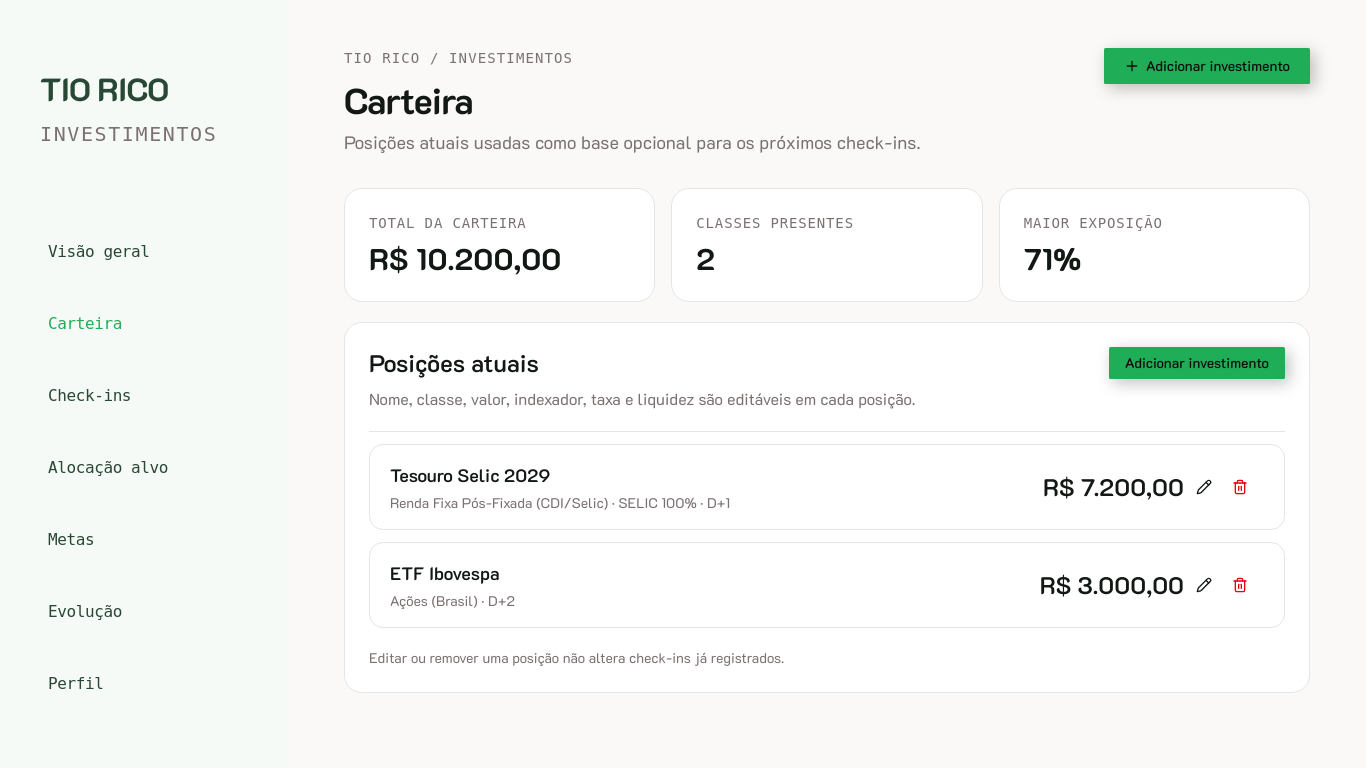
Test: Wallet (carteira) › não envia nada e avisa quando o valor é inválido
This screenshot has width=1366, height=768.
expect the list named "Investimentos atuais" is shown: met, box [369,444,1285,628]
Click the button "Adicionar investimento" in the row of "TIO RICO / INVESTIMENTOS". click: [1207, 66]
box: [1104,48,1310,84]
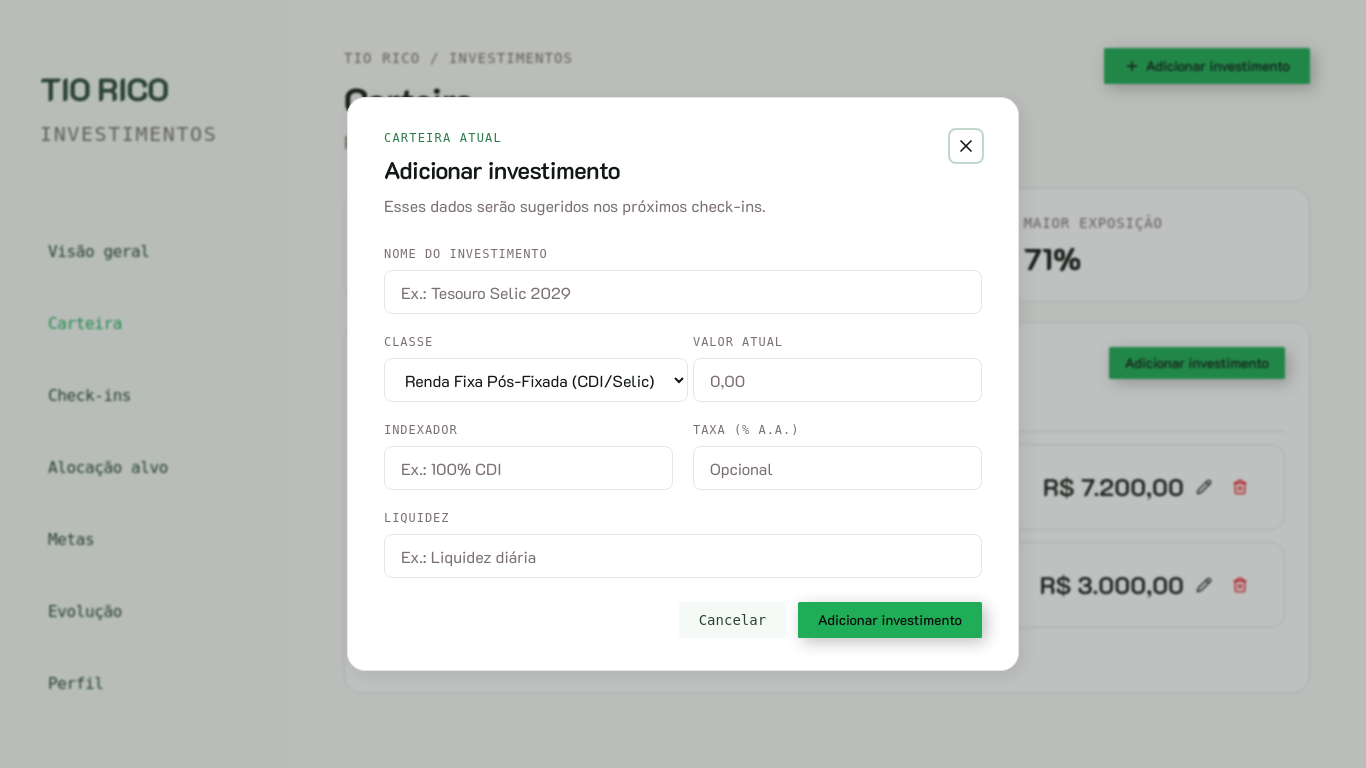
Type "Teste" into the field labelled "Nome do investimento". click: [683, 292]
box: [384,270,982,314]
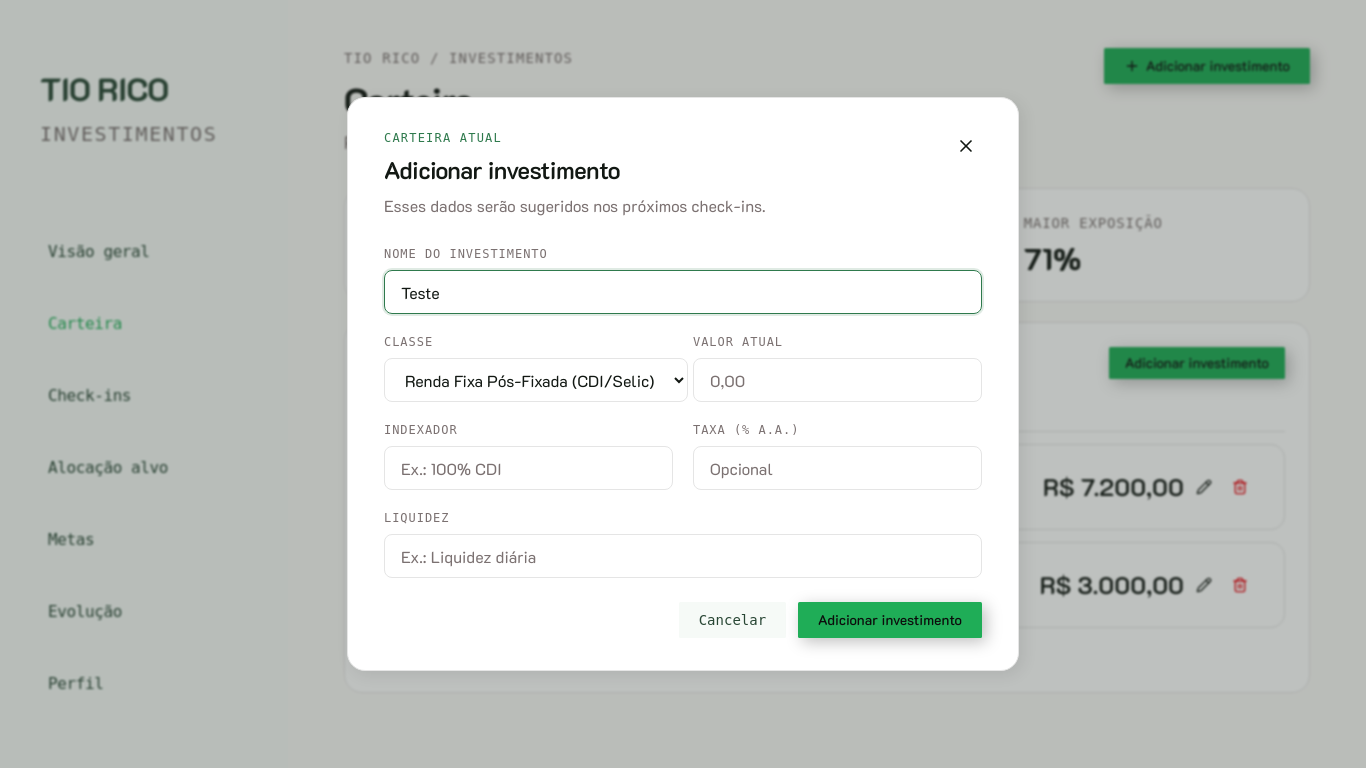
Type "-10" into the field labelled "Valor atual". click: [838, 380]
box: [693,358,982,402]
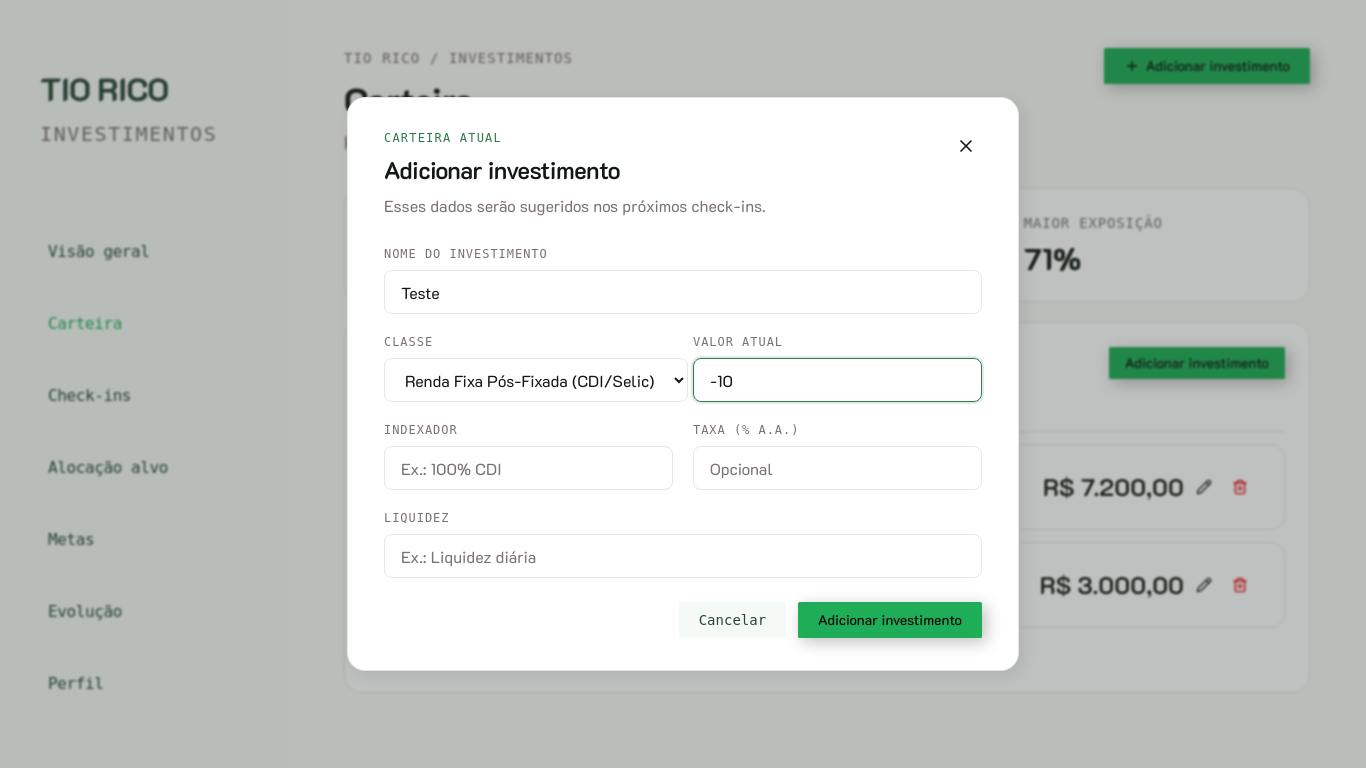
Click the button "Adicionar investimento". click: [890, 620]
box: [798,602,982,638]
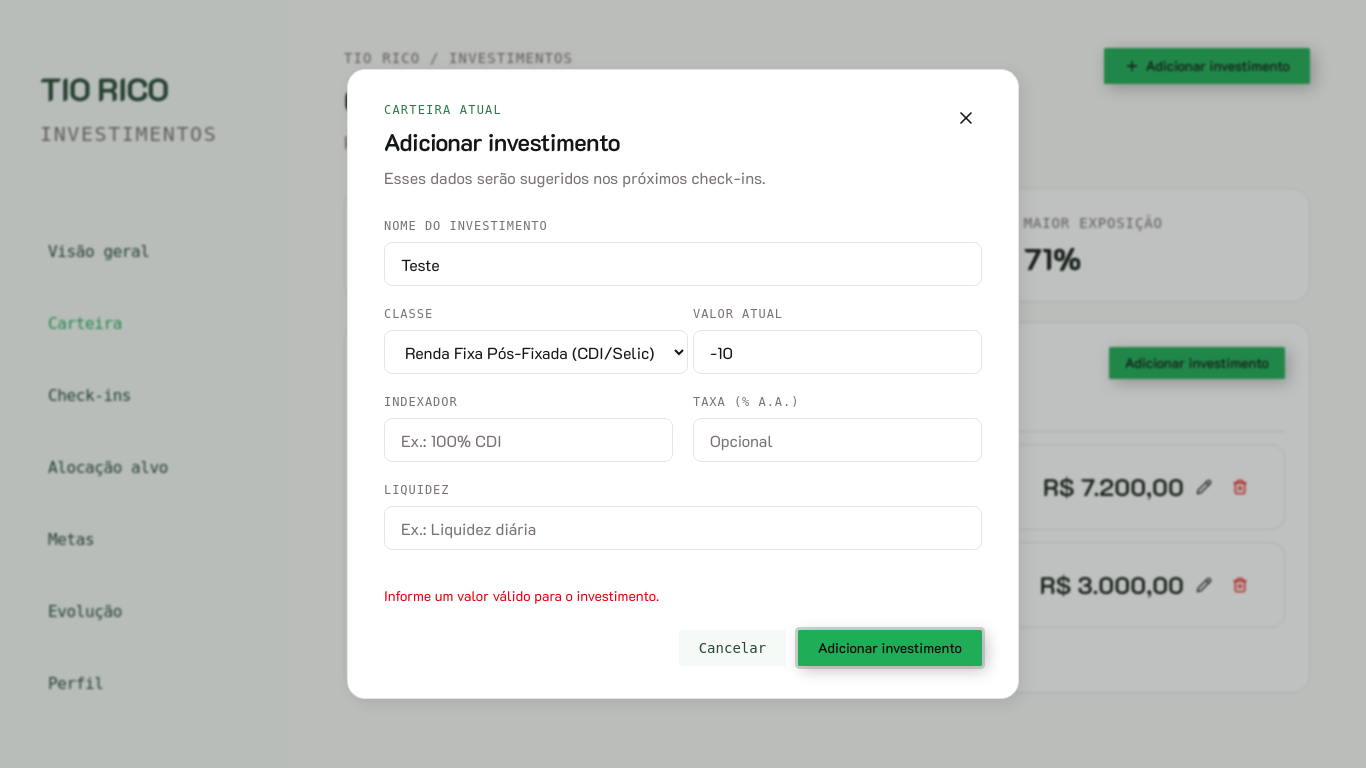
expect the text "Informe um valor válido para o investimento." is shown: met, box [384,586,659,605]
